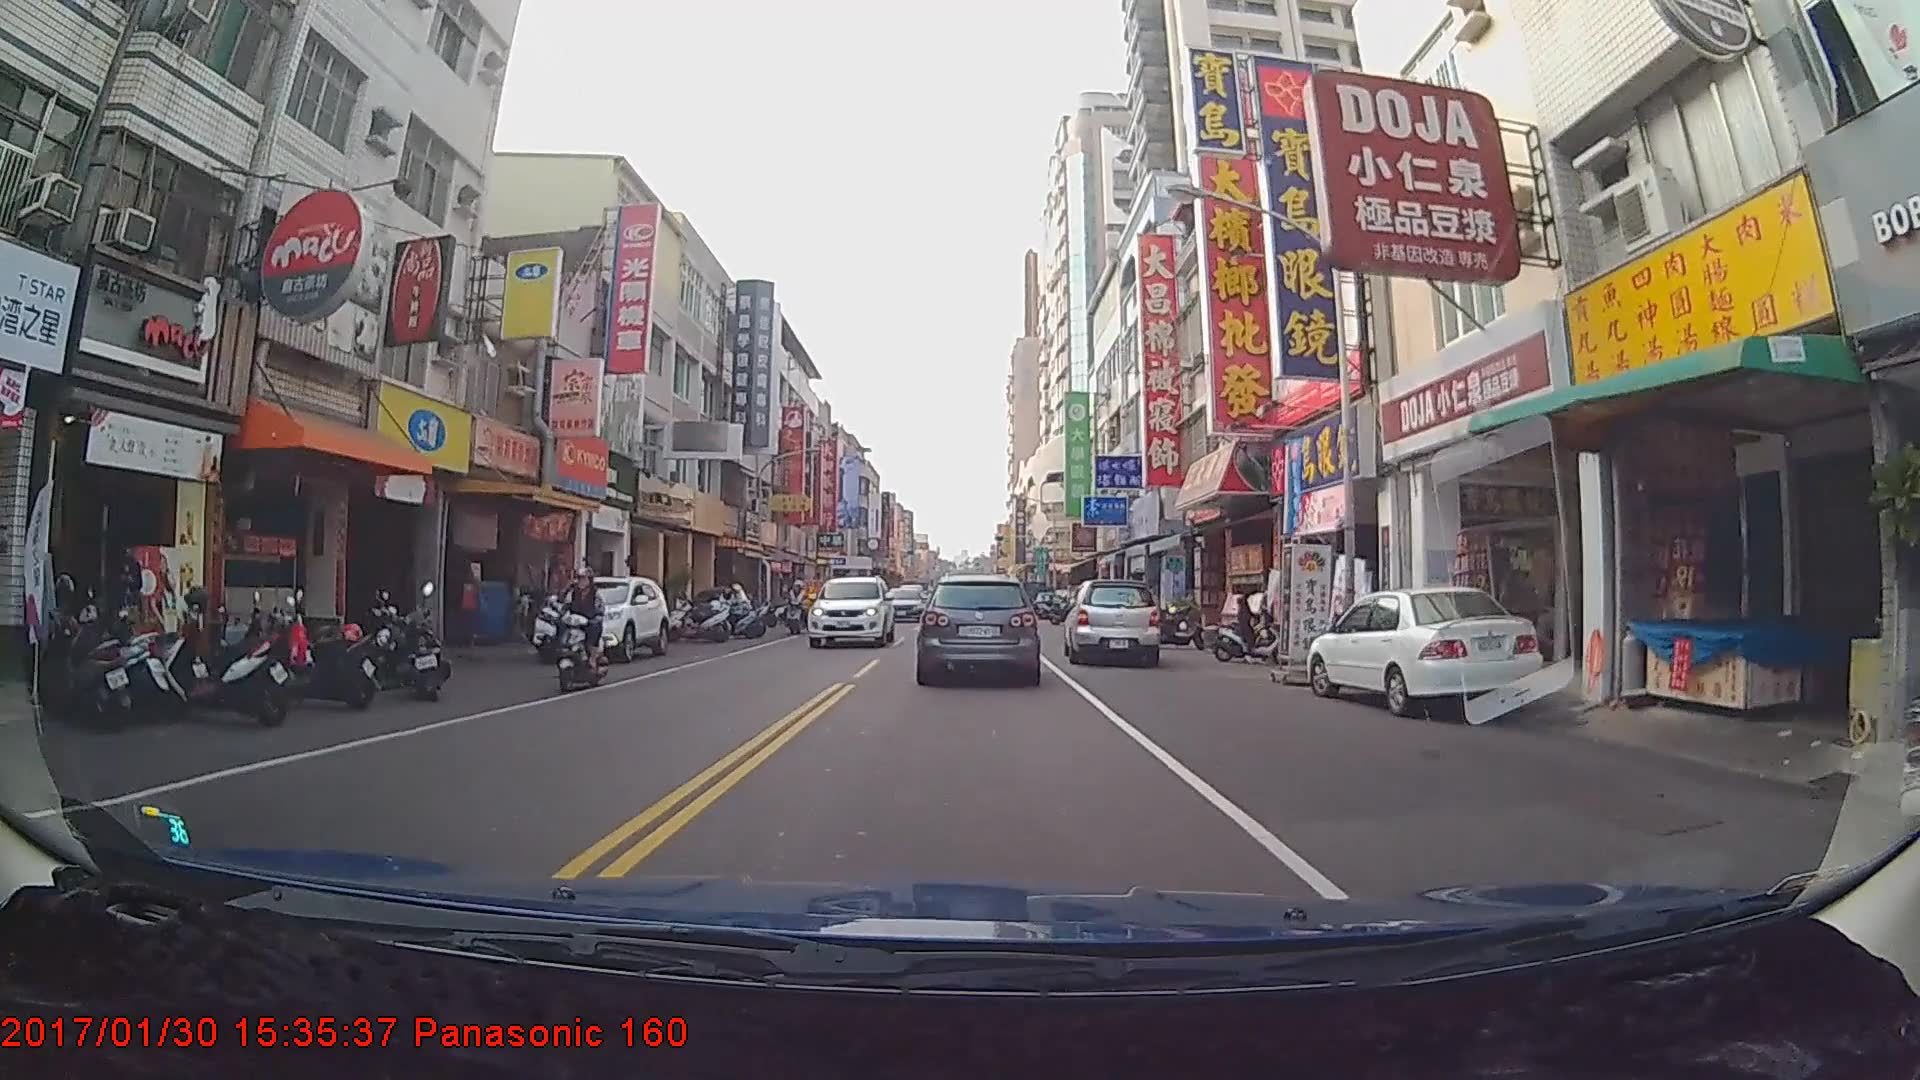rider: (552, 565, 614, 694), (1210, 581, 1295, 665), (783, 575, 812, 635)
vehicle: (1307, 585, 1543, 716), (919, 575, 1039, 683), (530, 574, 669, 663), (1065, 575, 1162, 665), (807, 573, 893, 648), (880, 587, 927, 622)
